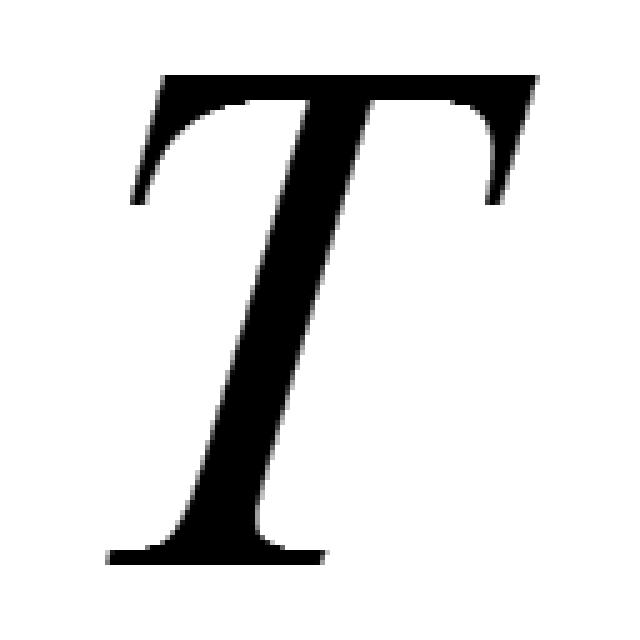T: (100, 60, 540, 570)
